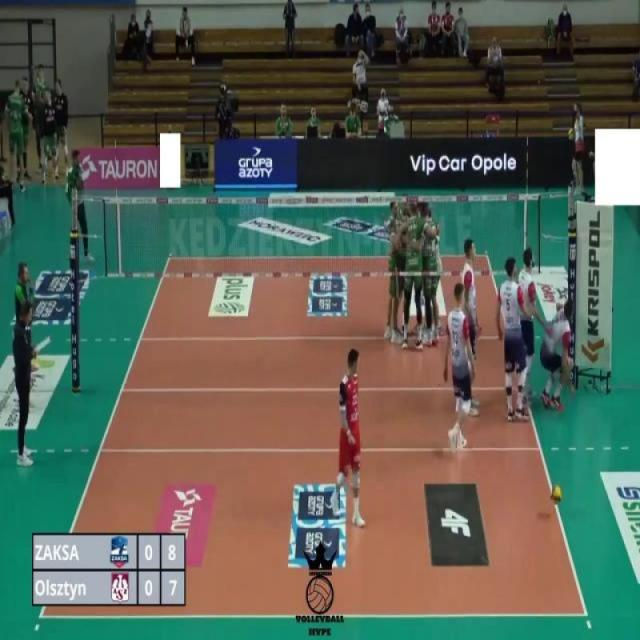volleyball: (549, 482, 563, 508)
